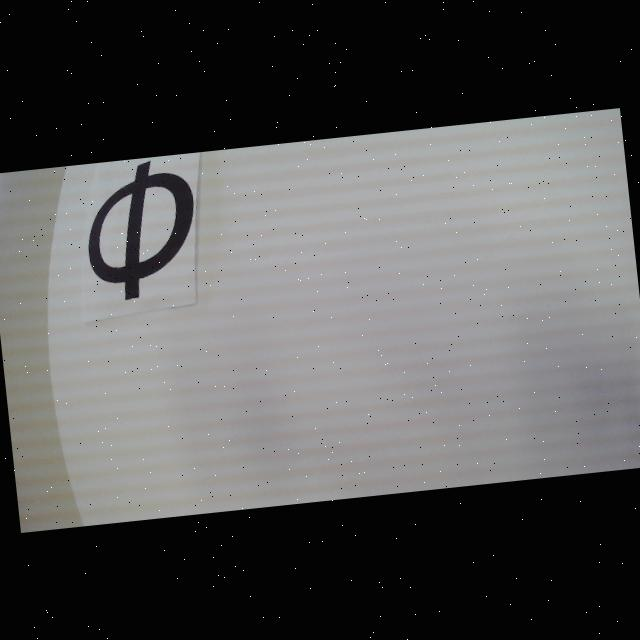PHI: (79, 155, 204, 303)
